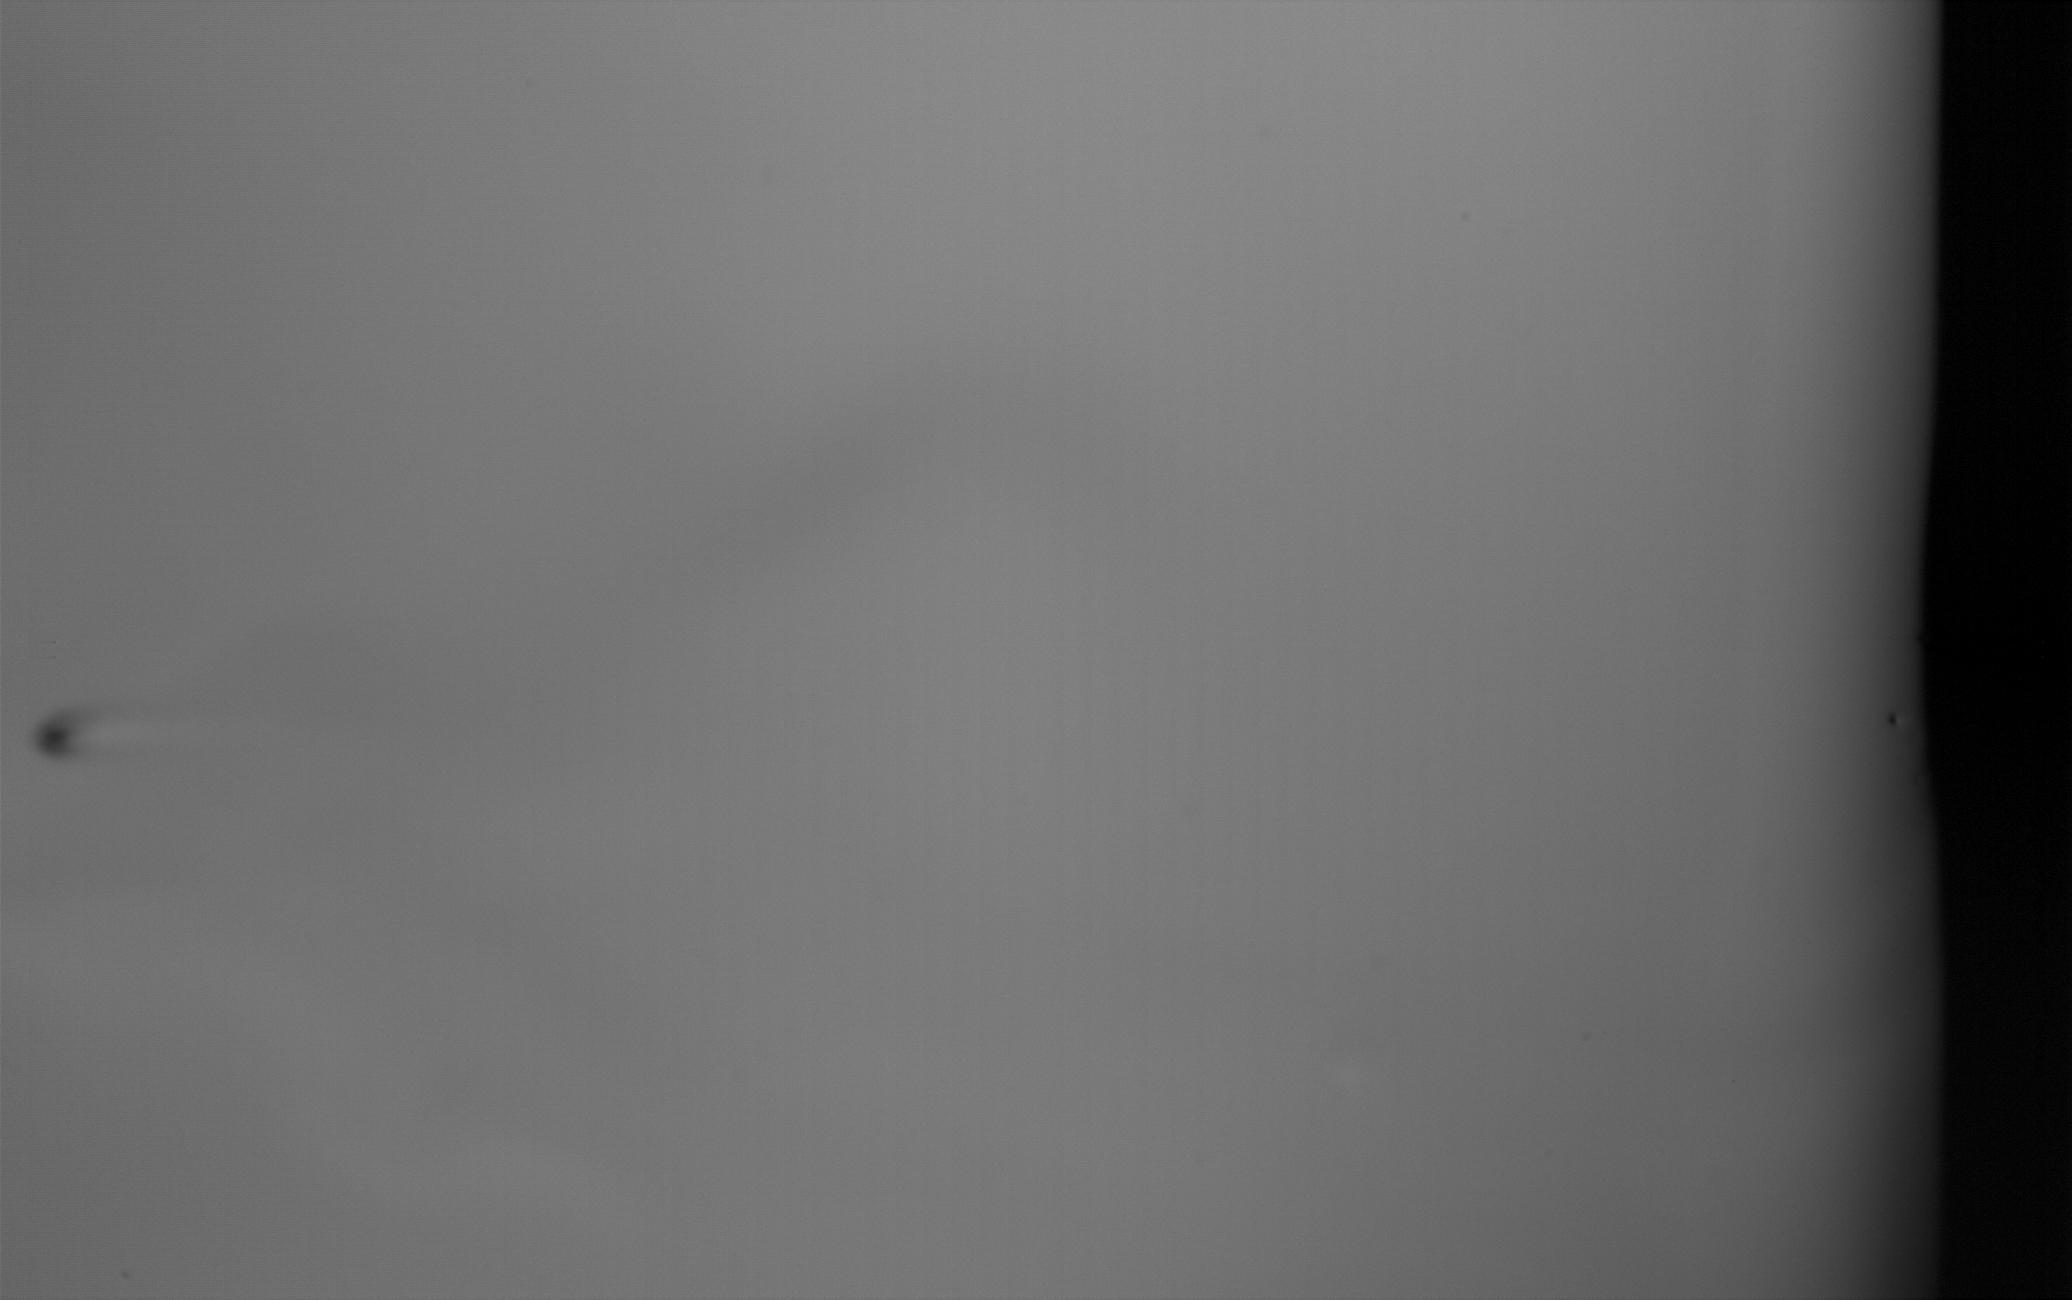DiffusiveMixing: (34, 714, 75, 758)
